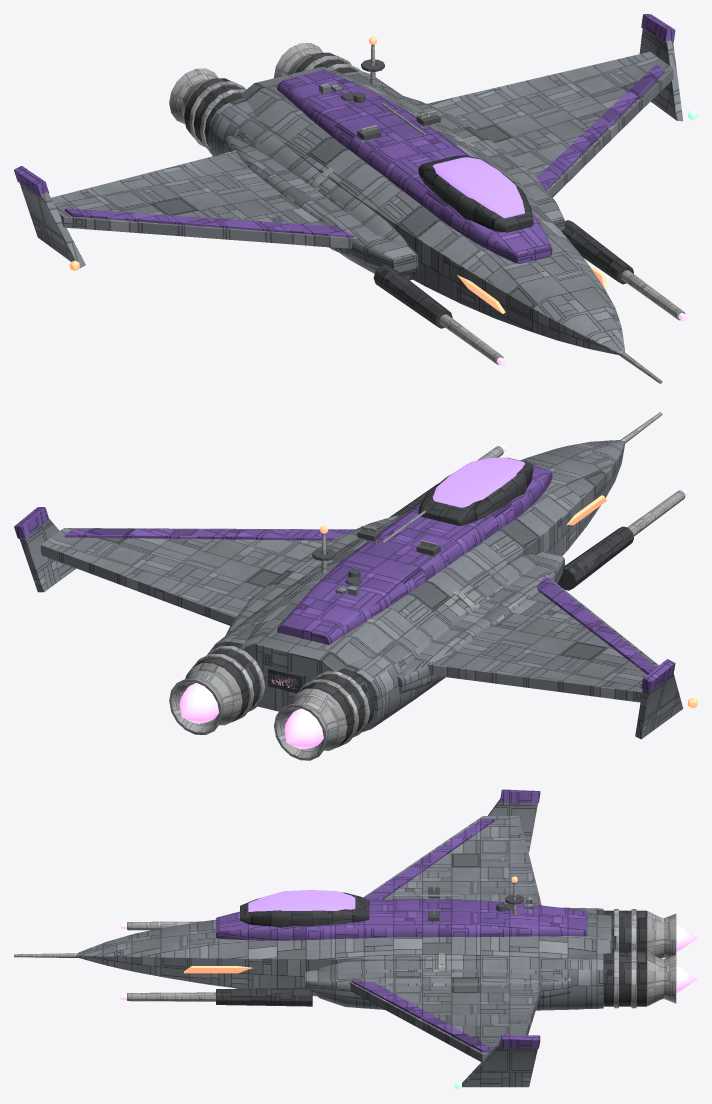
File: drone.glb
The picture shows the model from 3 angles, top to bottom: view 1: azimuth 30°, elevation 25°; view 2: azimuth 150°, elevation 25°; view 3: azimuth 270°, elevation 25°; orthographic projection. The views are drawn at different scales.
Visible parts, largest first — view 1: drone; view 2: drone; view 3: drone.
Part boxes in pixels (x1=…): drone: x1=14, y1=14, x2=697, y2=383; drone: x1=14, y1=412, x2=697, y2=760; drone: x1=14, y1=789, x2=697, y2=1089.
Bounding box in the file's own units: 3.66 × 0.9852 × 4.23.
9 materials, 4 textured.
